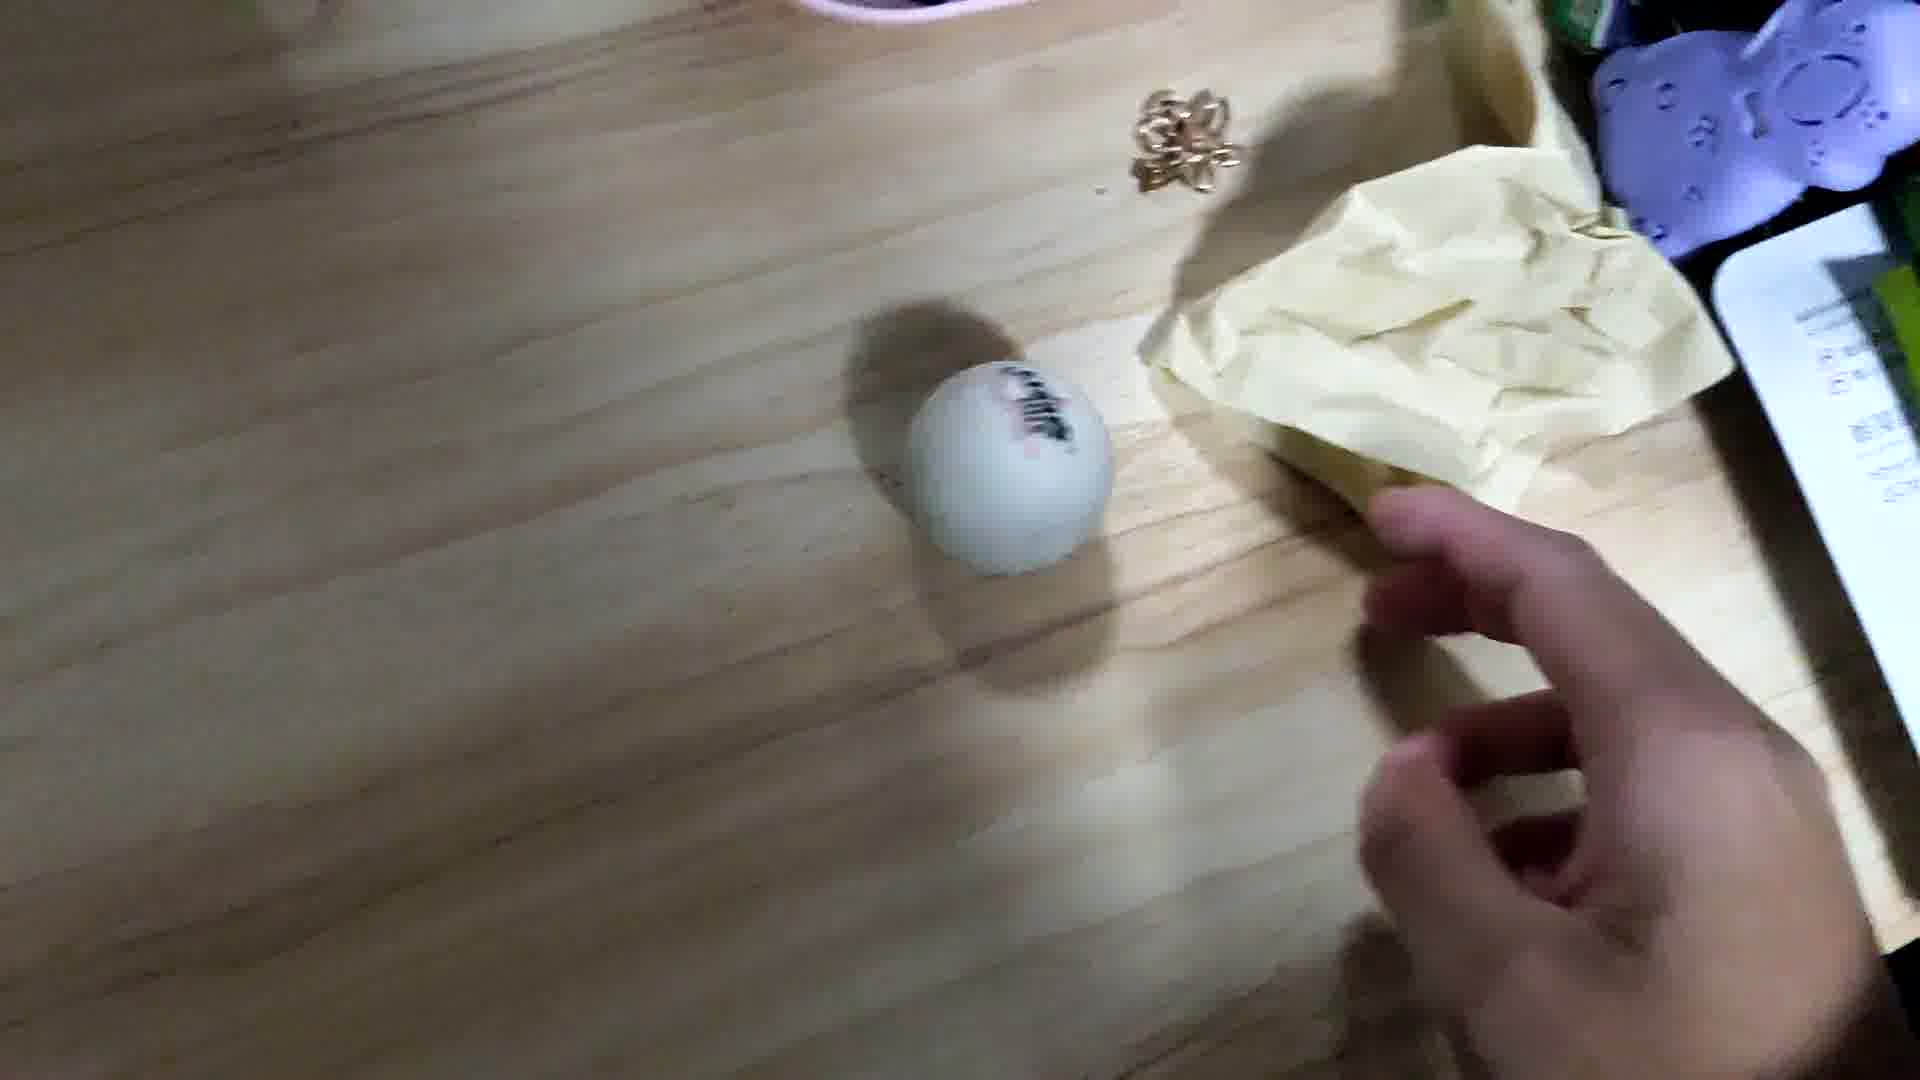Ball: (905, 361, 1127, 574)
